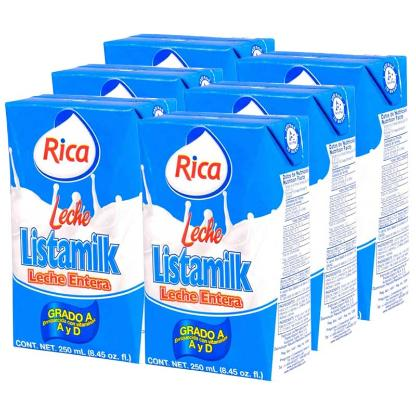Others: (138, 112, 314, 388), (3, 97, 152, 353)
